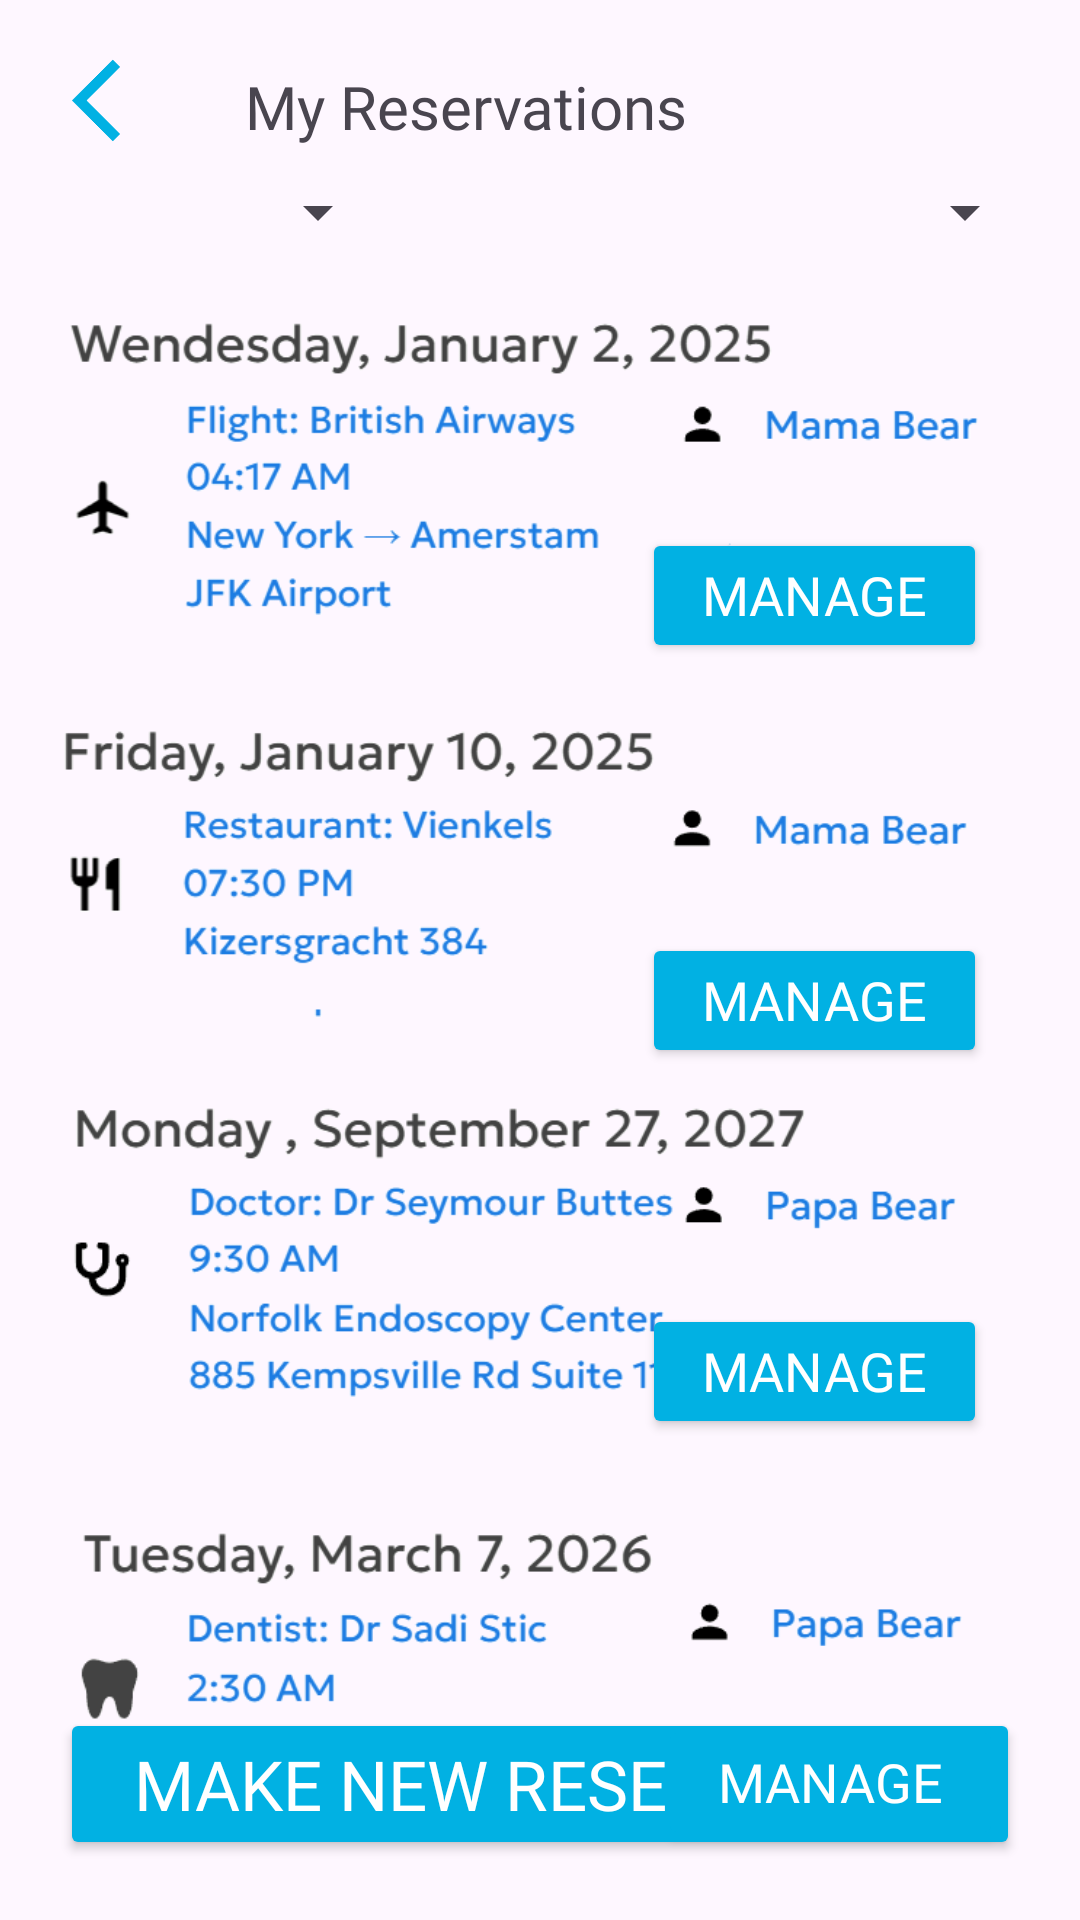

Icon bounding boxes for this 1080w x 1920h phone screenshot, format {"left": x1, "top": y1, "right": x2, "bottom": y2}:
back arrow: {"left": 72, "top": 60, "right": 120, "bottom": 141}
